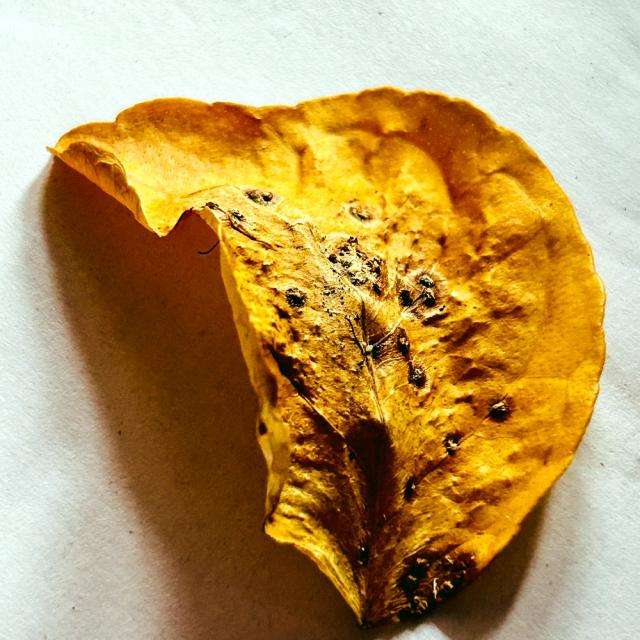DryLeaf_Lemon: (49, 89, 605, 625)
